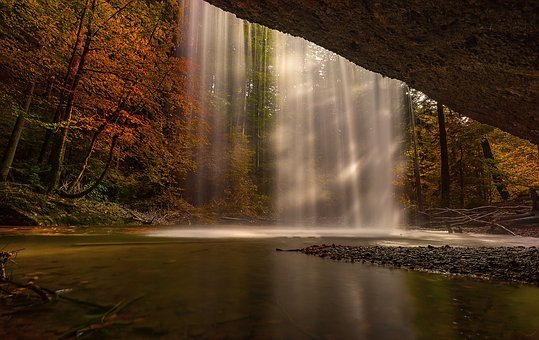forest: (7, 17, 533, 286)
tree: (29, 14, 191, 218)
